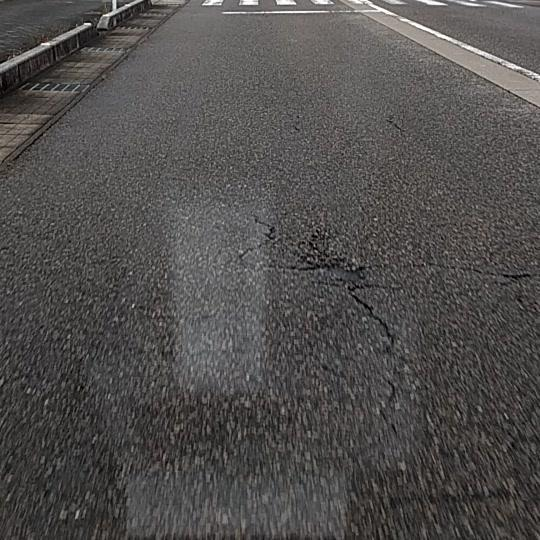D20: (211, 203, 539, 406)
